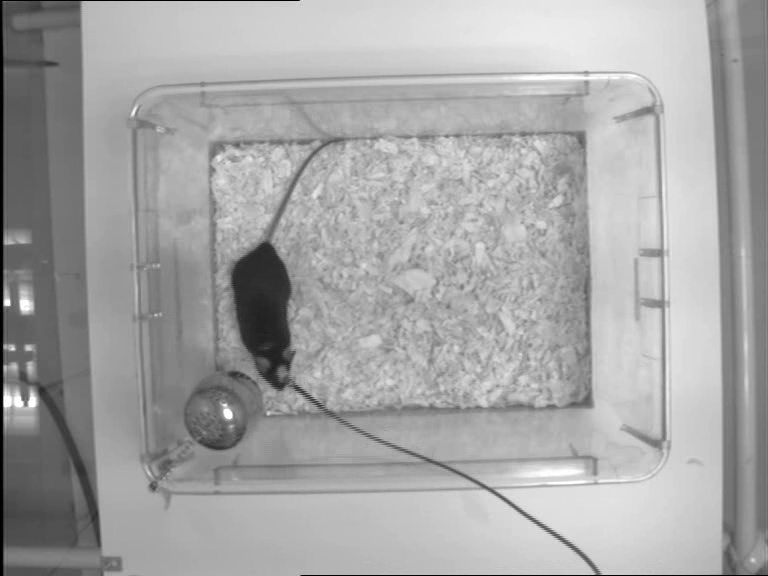mice: (229, 134, 347, 392)
